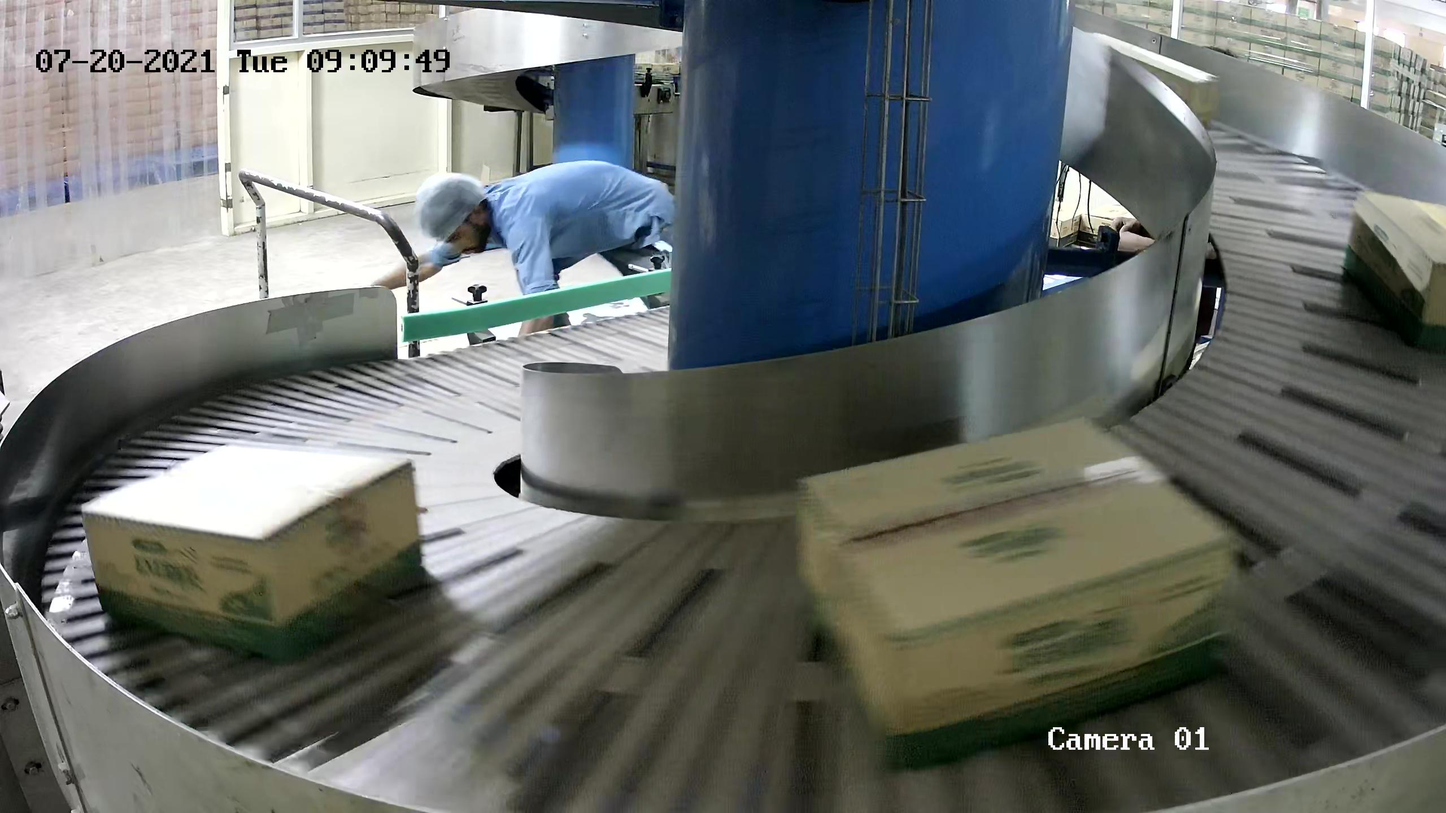Box: (792, 414, 1244, 775), (81, 444, 425, 662), (1340, 188, 1446, 352)
